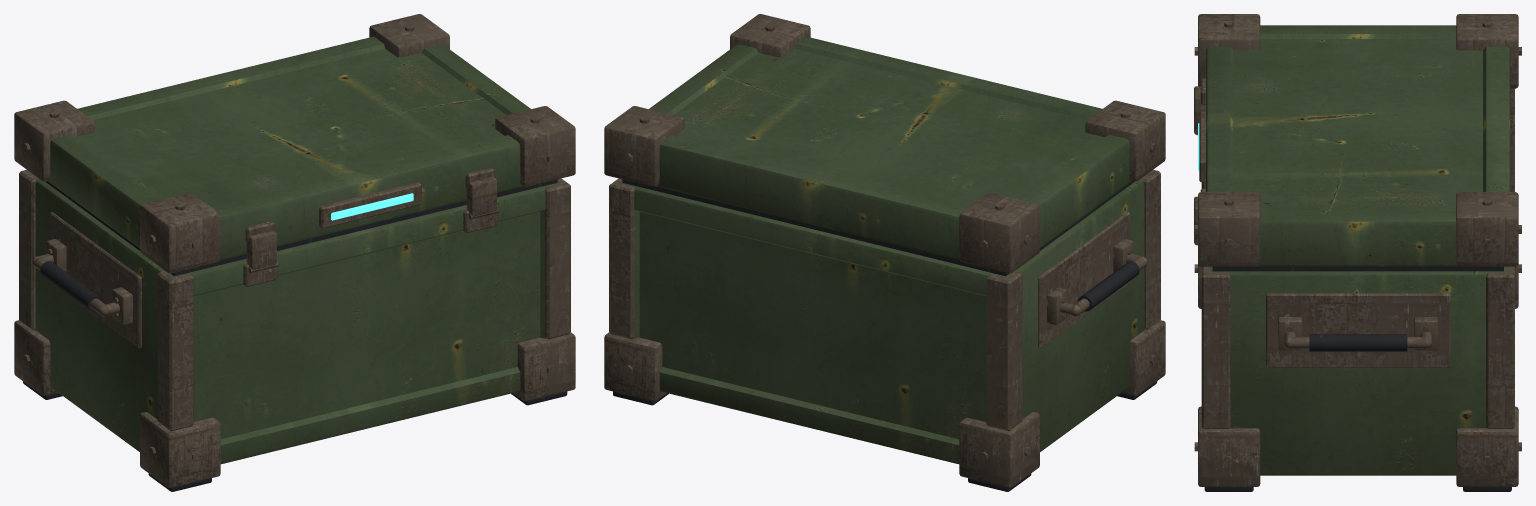
File: scifi-supply-crate_final.glb
3 renders of one model, left to right at view 1: azimuth 30°, elevation 25°; view 2: azimuth 150°, elevation 25°; view 3: azimuth 270°, elevation 25°, orthographic. The views are drawn at different scales.
Visible parts, largest first — view 1: SM_Crate_Body, SM_Crate_Frame, SM_Crate_Rubber, SM_Crate_StatusLight; view 2: SM_Crate_Body, SM_Crate_Frame, SM_Crate_Rubber; view 3: SM_Crate_Body, SM_Crate_Frame, SM_Crate_Rubber.
Part boxes in pixels (left/top/right/bottom): SM_Crate_Body: left=30, top=36, right=559, bottom=464; SM_Crate_Frame: left=14, top=14, right=575, bottom=487; SM_Crate_Rubber: left=23, top=179, right=567, bottom=491; SM_Crate_StatusLight: left=331, top=193, right=413, bottom=220; SM_Crate_Body: left=620, top=36, right=1149, bottom=464; SM_Crate_Frame: left=604, top=14, right=1165, bottom=487; SM_Crate_Rubber: left=613, top=179, right=1157, bottom=491; SM_Crate_Body: left=1206, top=25, right=1510, bottom=475; SM_Crate_Frame: left=1194, top=14, right=1521, bottom=486; SM_Crate_Rubber: left=1204, top=266, right=1511, bottom=491.
Bounding box in the file's own units: 1.01 × 0.571 × 0.603.
Materials: 4 (3 with a texture image).
